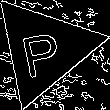P_N: (20, 20, 68, 78)
